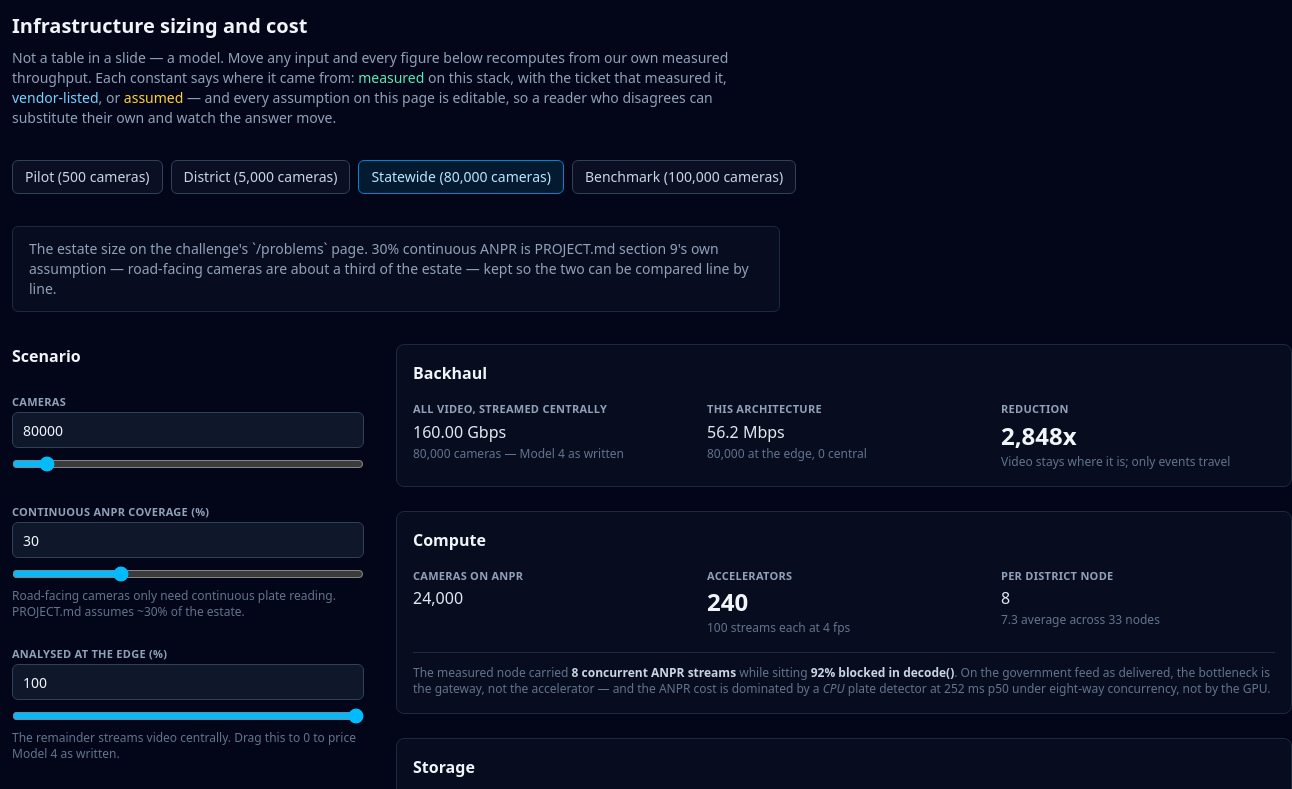
Test: the sizing calculator recomputes from its inputs (AC 1) › switches presets, including the 100,000 benchmark above the 80,000 on /problems
The width and height of the screenshot is (1292, 789).
Click the button "Benchmark (100,000 cameras)".
click(684, 177)  # box [572,160,796,194]
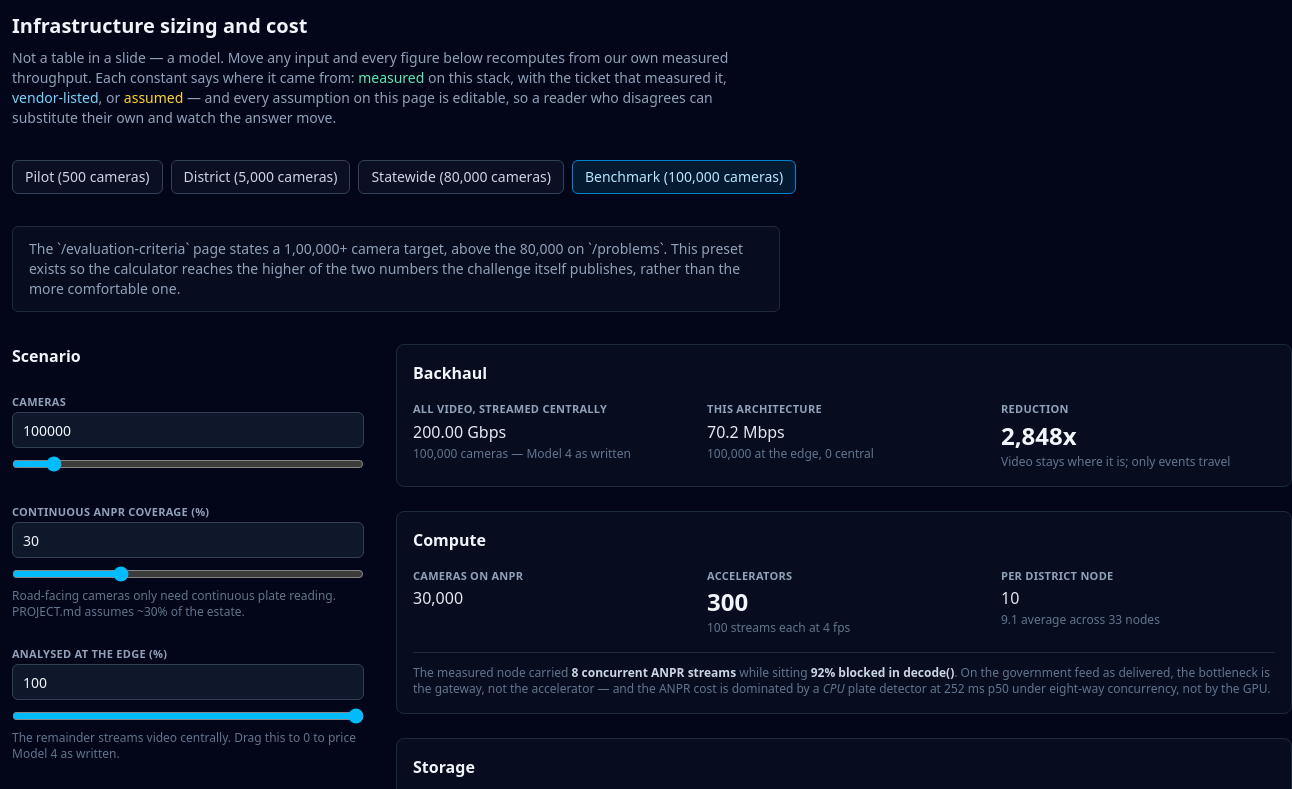
Result: the number field labelled "Cameras" holds "100000" at [12,412,364,448]
Result: the element with test id "backhaul" shows "200.00 Gbps" at [413,420,506,442]
Click the button "Pilot (500 cameras)".
click(87, 177)  # box [12,160,162,194]
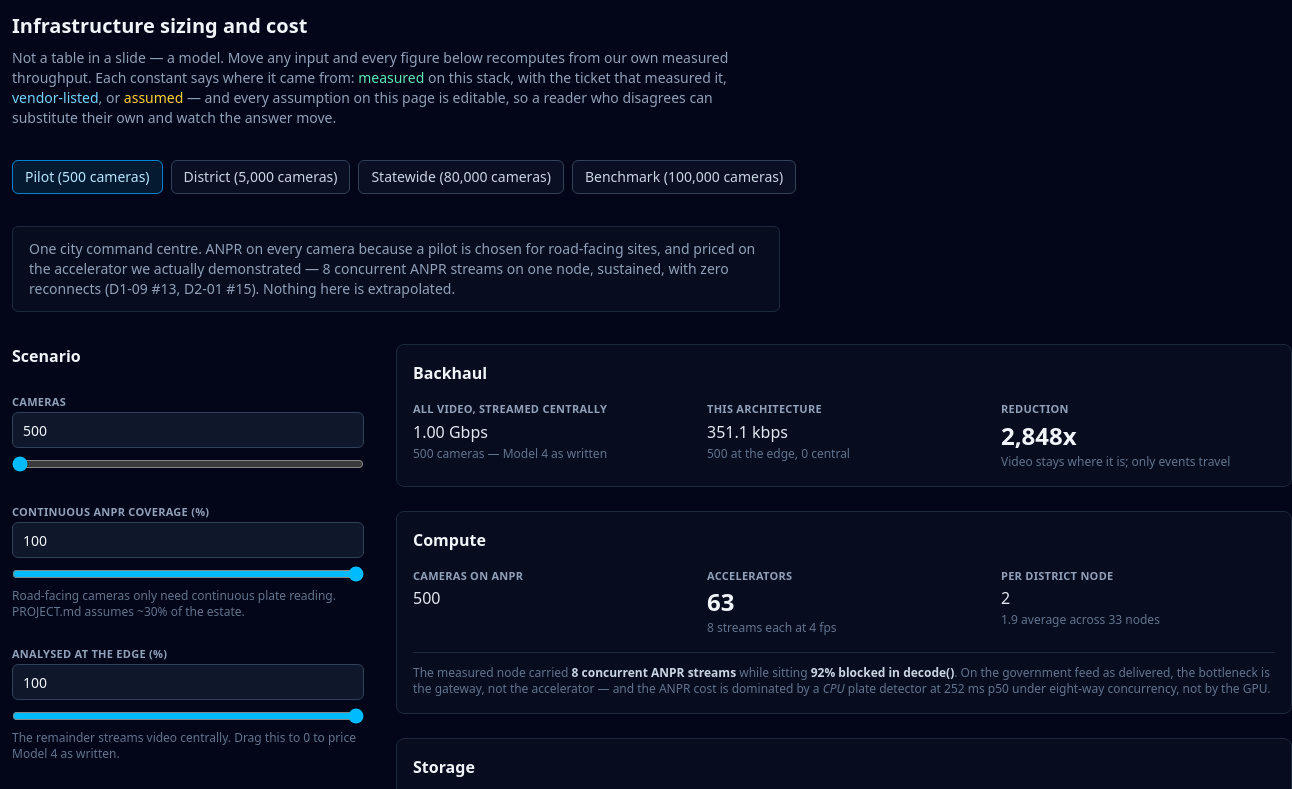
Result: the number field labelled "Cameras" holds "500" at [12,412,364,448]
